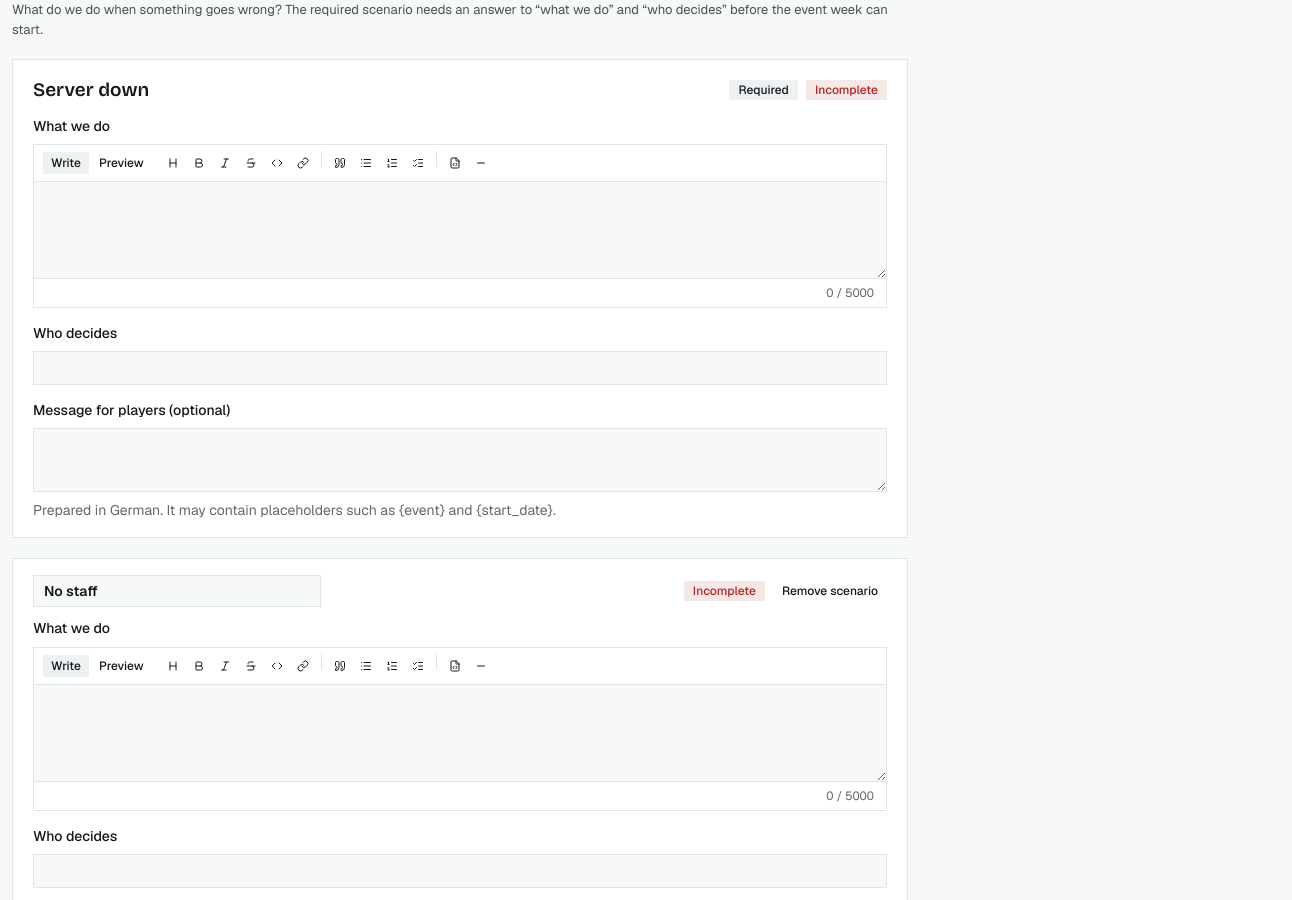
Test case: FallbackTab › saving one card leaves the unsaved text of another
Type "The lead" into the field labelled "Who decides" below "Server down" at [460, 368], box [33,351,887,385]
(page scrolled)
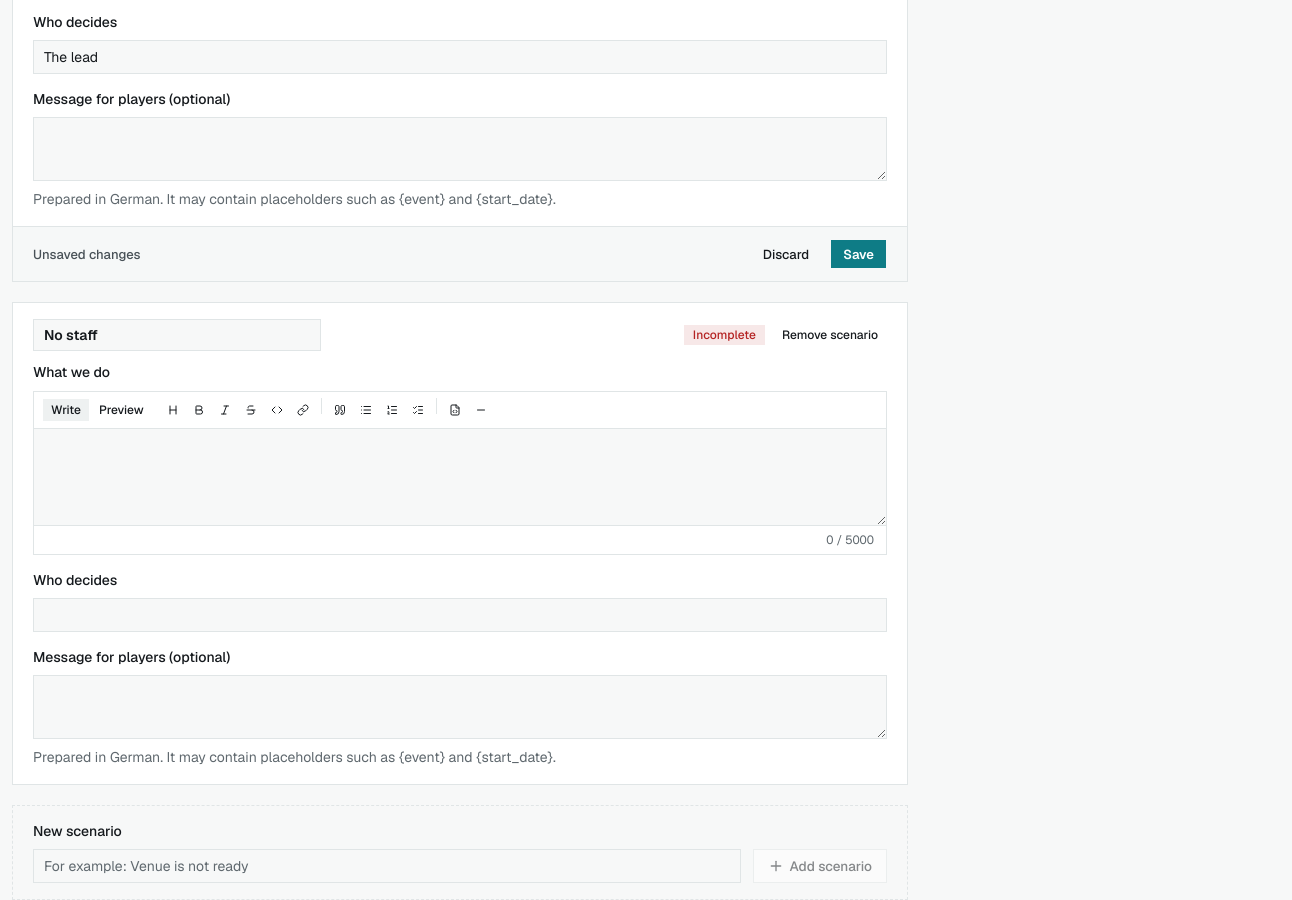
Type "Ops" into the 2nd field labelled "Who decides" at [460, 615], box [33,598,887,632]
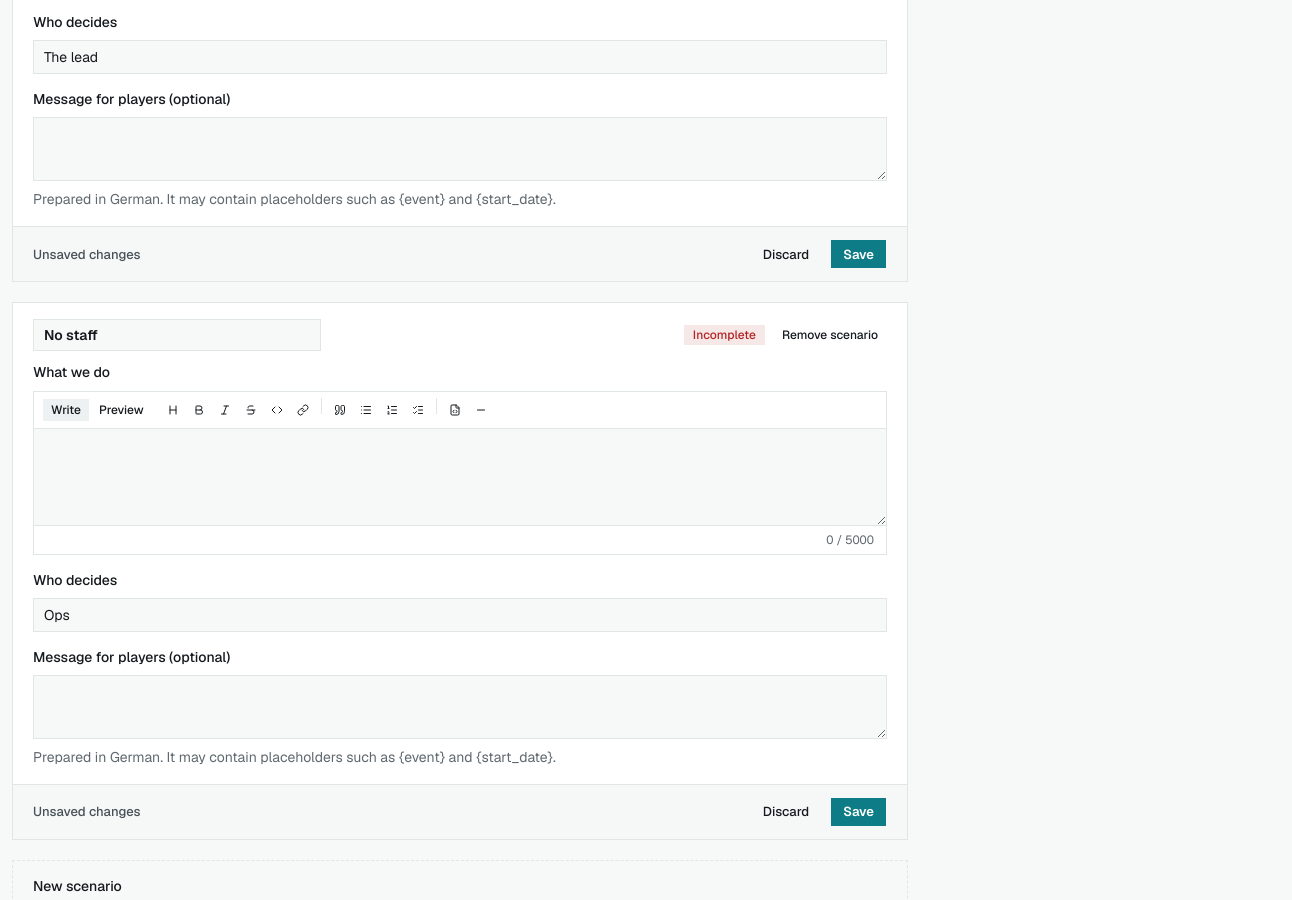
Click the 1st button "Save" at [859, 254], box [830,239,887,269]
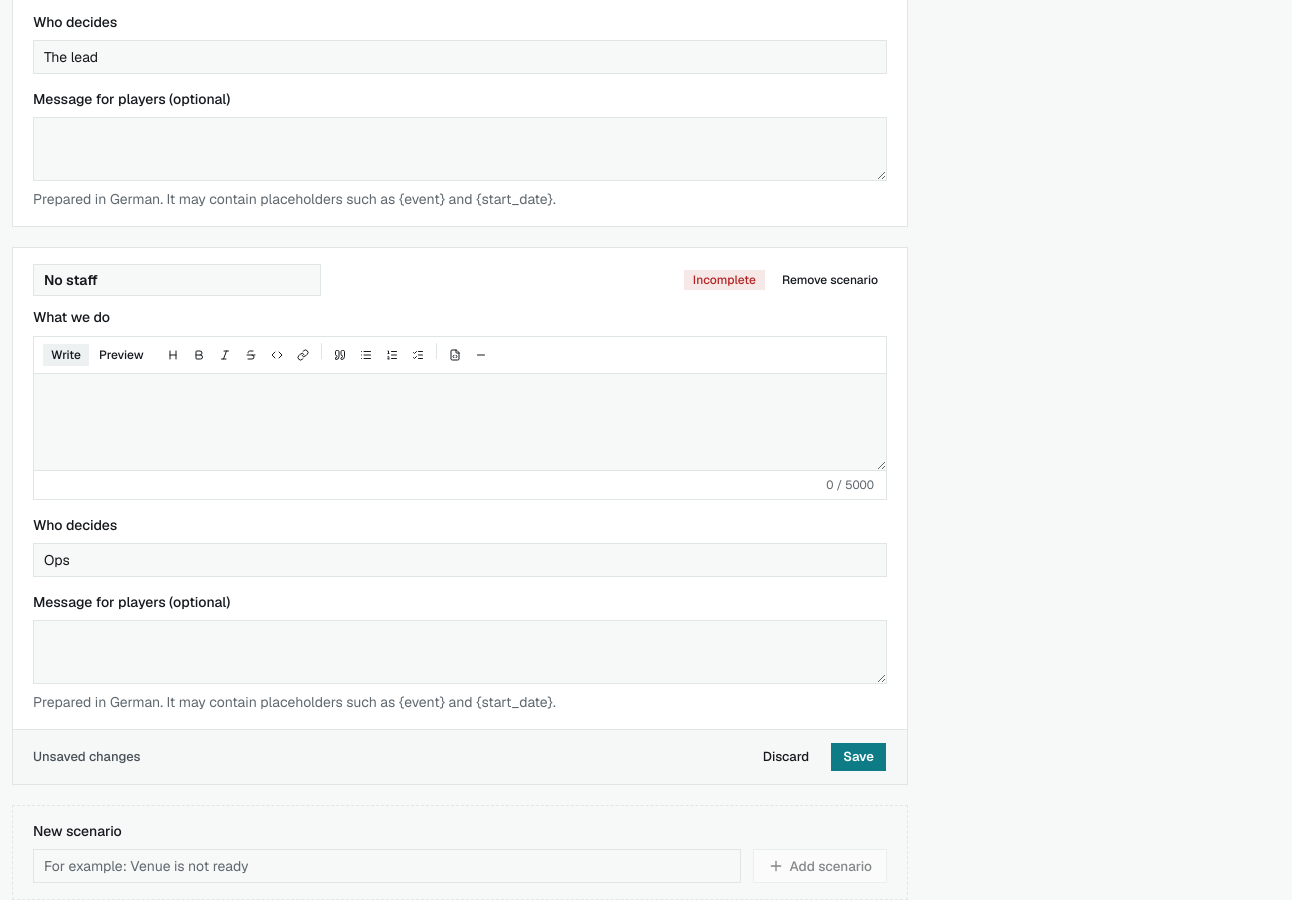
Expected: the text "Unsaved changes" is shown once, [33,747,140,767]
